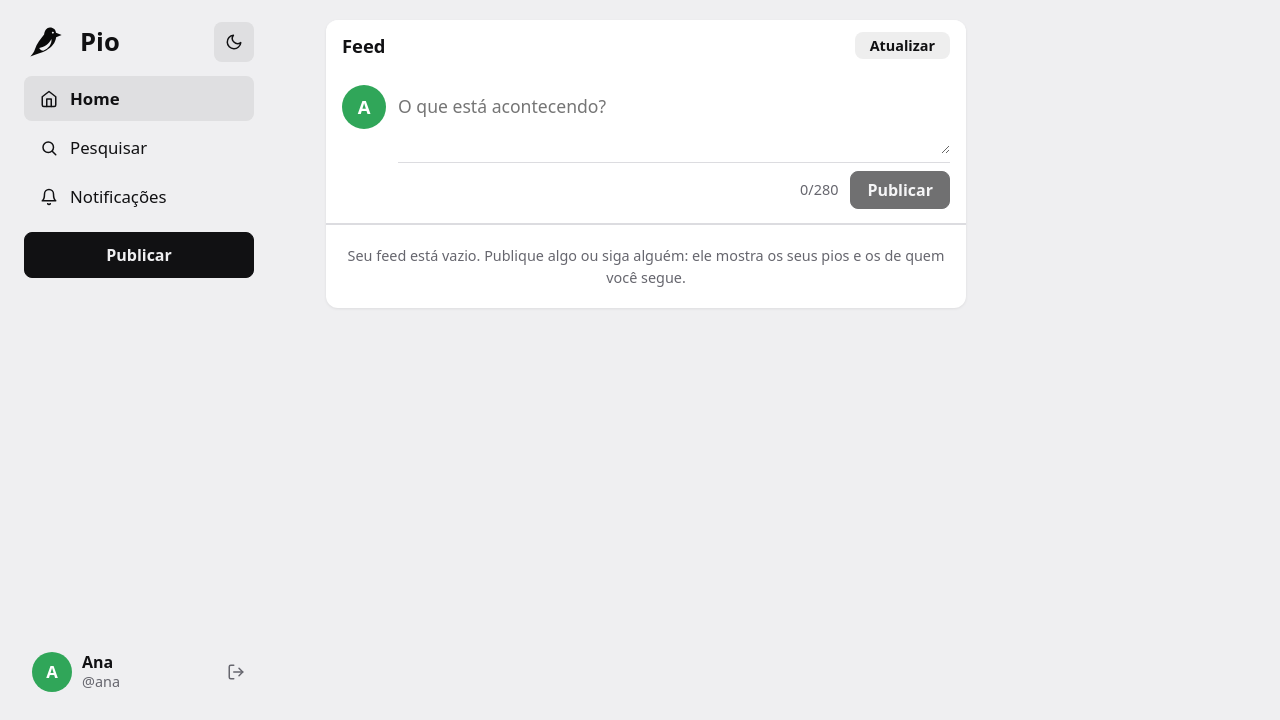
Scenario: barra lateral: pesquisa e perfil › "Pesquisar" abre a página de pesquisa; o resultado leva ao perfil
Check: the heading "Feed Atualizar" is shown, box [326,20,966,71]
Click the link "Pesquisar".
click(94, 148)  # box [40,136,147,159]
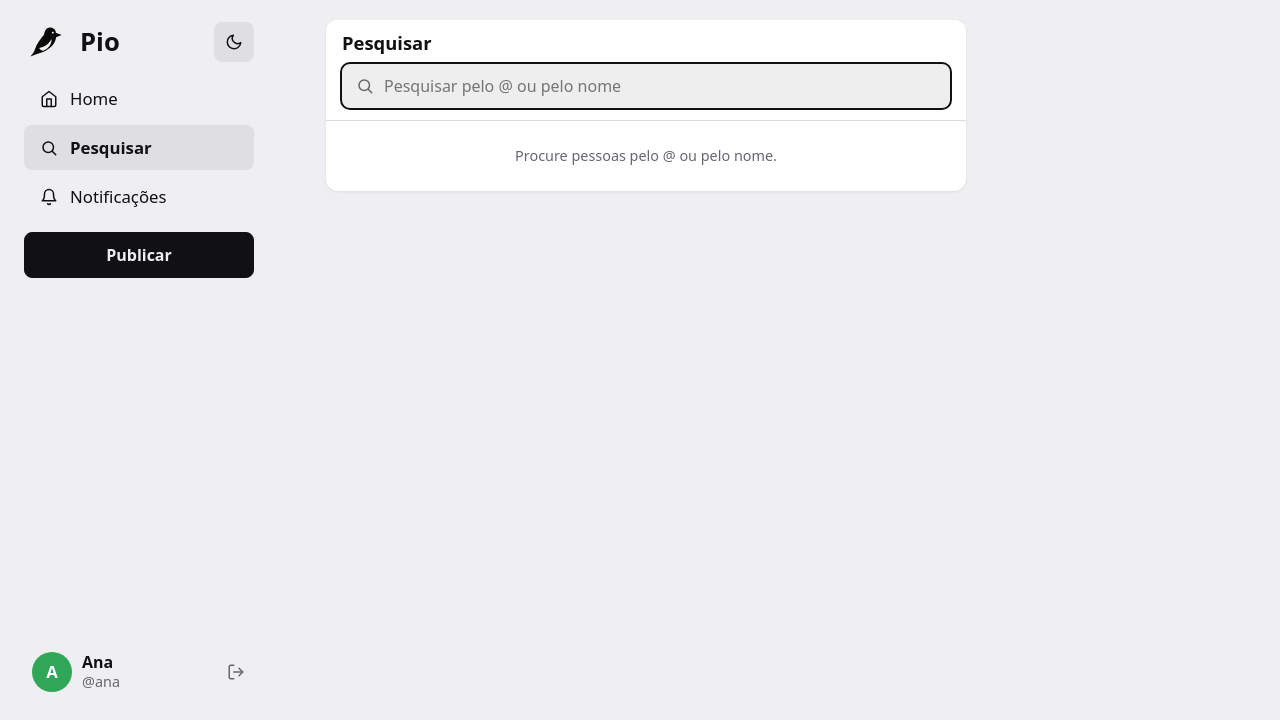
Check: the text "Procure pessoas pelo @ ou pelo nome." is shown, box [515,146,777,165]
Type "bi" into the search field named "Pesquisar pessoas".
click(660, 86); type("bi")  # box [384,64,936,108]
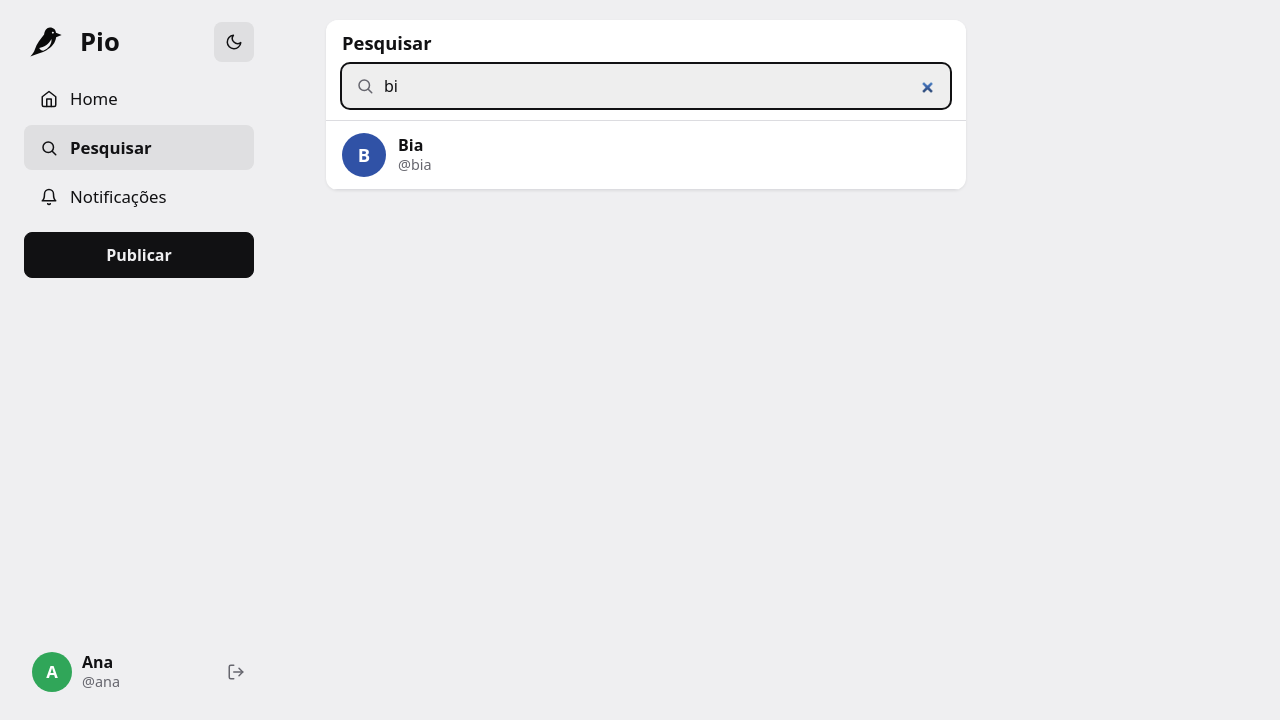
Click the link "B Bia @bia".
click(364, 155)  # box [326,121,966,190]
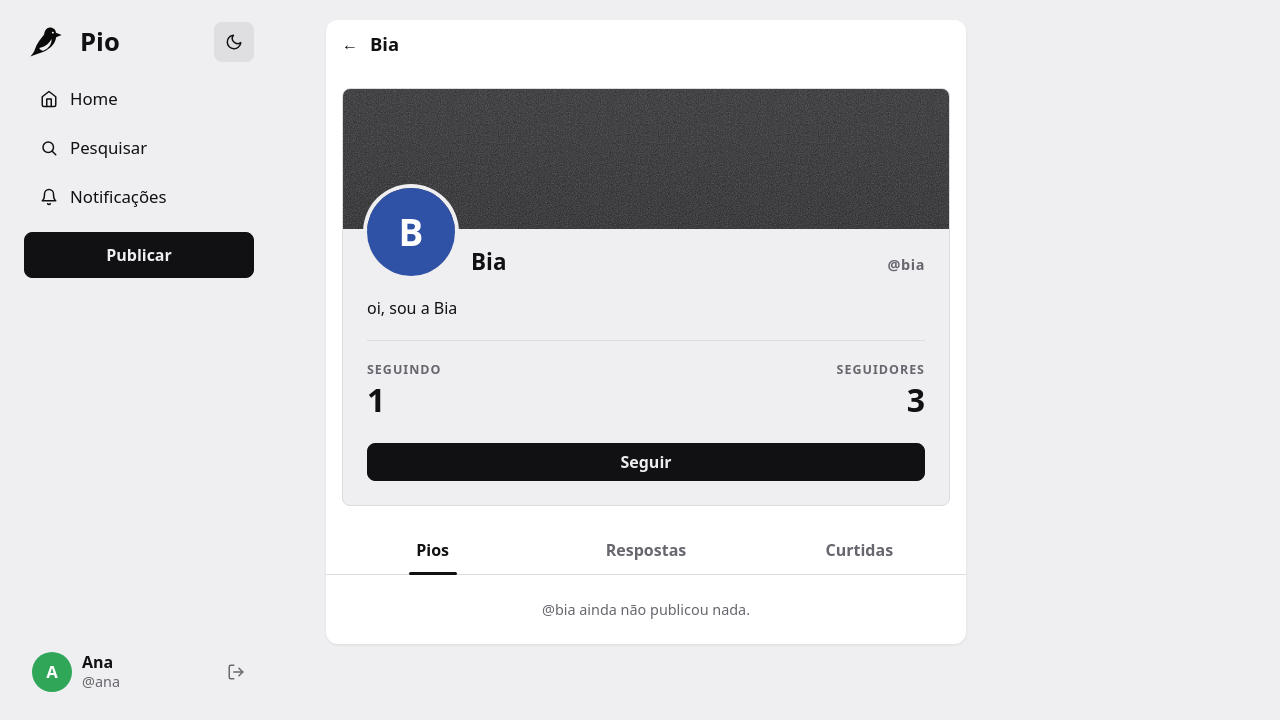
Check: the text "oi, sou a Bia" is shown, box [367,297,457,319]
